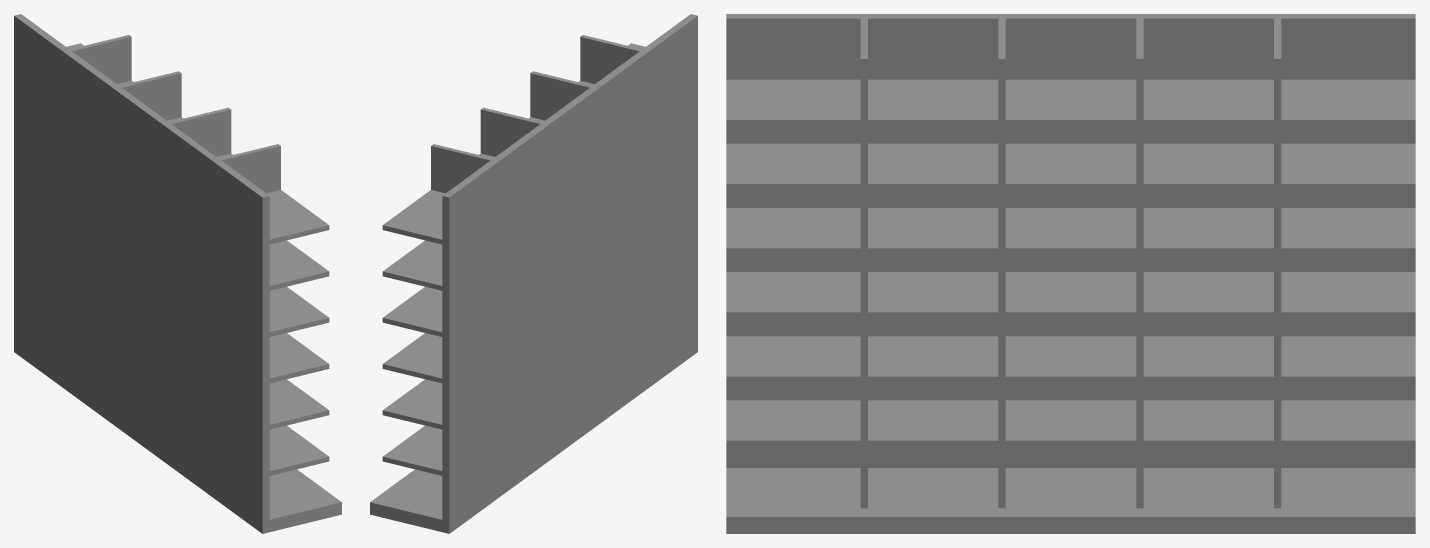
Rendered from shelves2.fbx.
3 views of the same model, side by side, from view 1: azimuth 30°, elevation 25°; view 2: azimuth 150°, elevation 25°; view 3: azimuth 270°, elevation 25° (orthographic). The views are drawn at different scales.
Visible parts, largest first — view 1: shelves; view 2: shelves; view 3: shelves.
Part boxes in pixels (x1,y1,x2,y2): shelves: [14, 14, 341, 533]; shelves: [370, 14, 697, 533]; shelves: [726, 14, 1415, 533].
Bounding box in the file's own units: 78.2 × 317 × 424.
